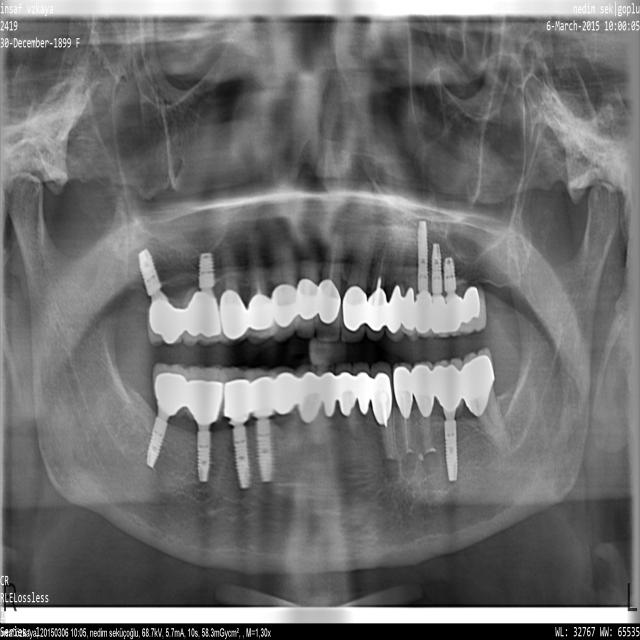Canine: (267, 218, 295, 341), (371, 362, 399, 485), (386, 279, 404, 342), (275, 367, 296, 416)
Incisores: (341, 221, 381, 345), (317, 209, 347, 342), (294, 228, 317, 339), (368, 243, 390, 340), (296, 364, 323, 421), (337, 364, 356, 415), (354, 363, 370, 413), (324, 365, 336, 416)
Premolars: (223, 365, 250, 489), (246, 226, 274, 345), (249, 368, 275, 483), (221, 236, 247, 345), (393, 362, 415, 480), (414, 358, 436, 474), (415, 218, 432, 339), (404, 286, 418, 339)
molars: (463, 347, 507, 450), (186, 364, 223, 484), (139, 248, 180, 349), (146, 363, 183, 469), (183, 251, 220, 347), (436, 358, 462, 482), (444, 257, 464, 337), (432, 242, 448, 339), (462, 284, 486, 333)
